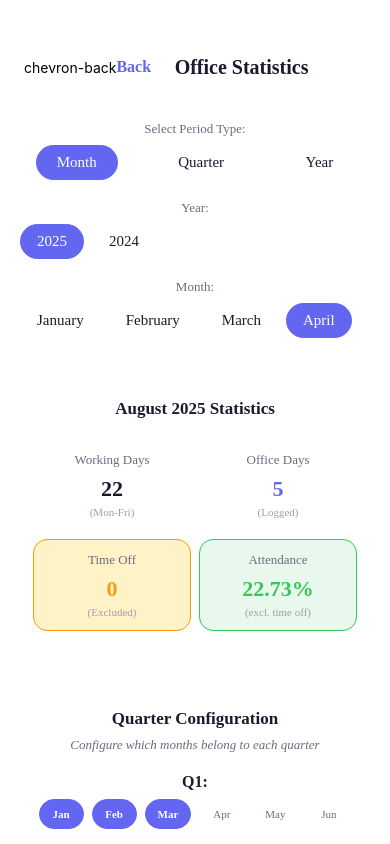
StatisticsScreen › Quarter Selection › should display quarter options when quarter view is selected
This screenshot has width=390, height=844.
Switch to Quarter view first
Click the text "Quarter".
click(201, 162)  # box [178,154,224,171]
(page scrolled)
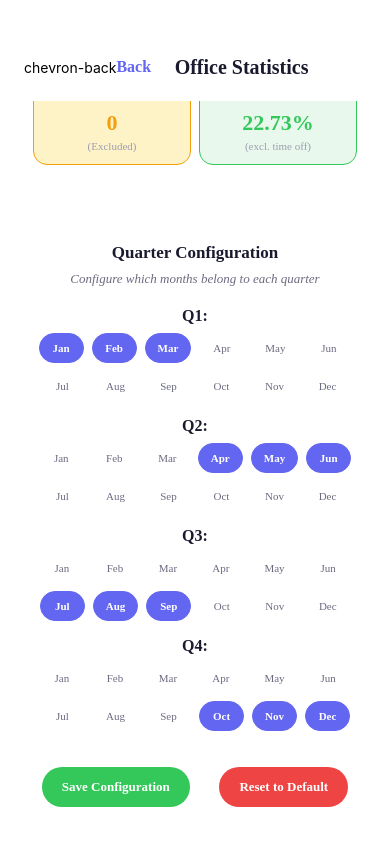
Result: the text "Q2:" is shown at [182,417,208,434]
Result: the text "Q3:" is shown at [182,527,208,544]
Result: the text "Q4:" is shown at [182,637,208,654]
